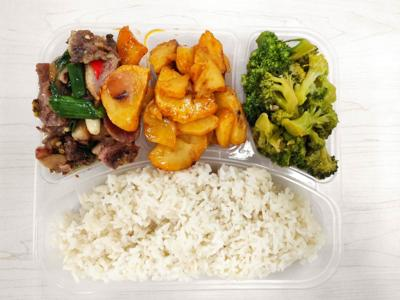rice: (56, 164, 331, 280)
